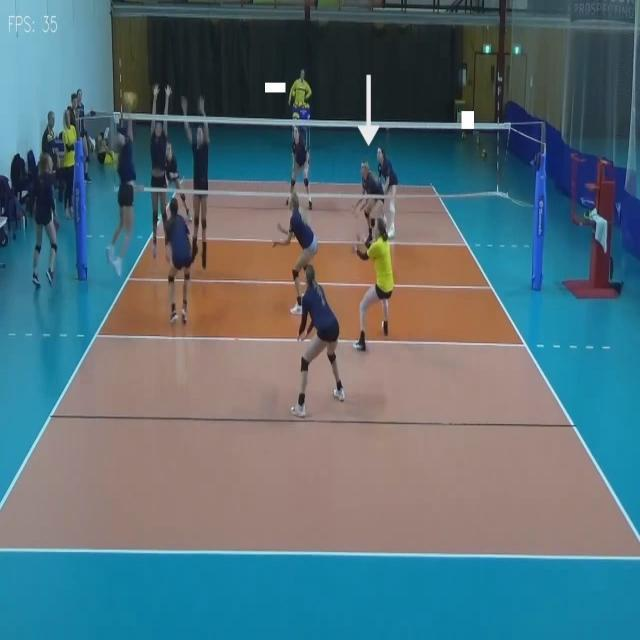volleyball: (122, 92, 137, 112), (292, 112, 300, 120)
